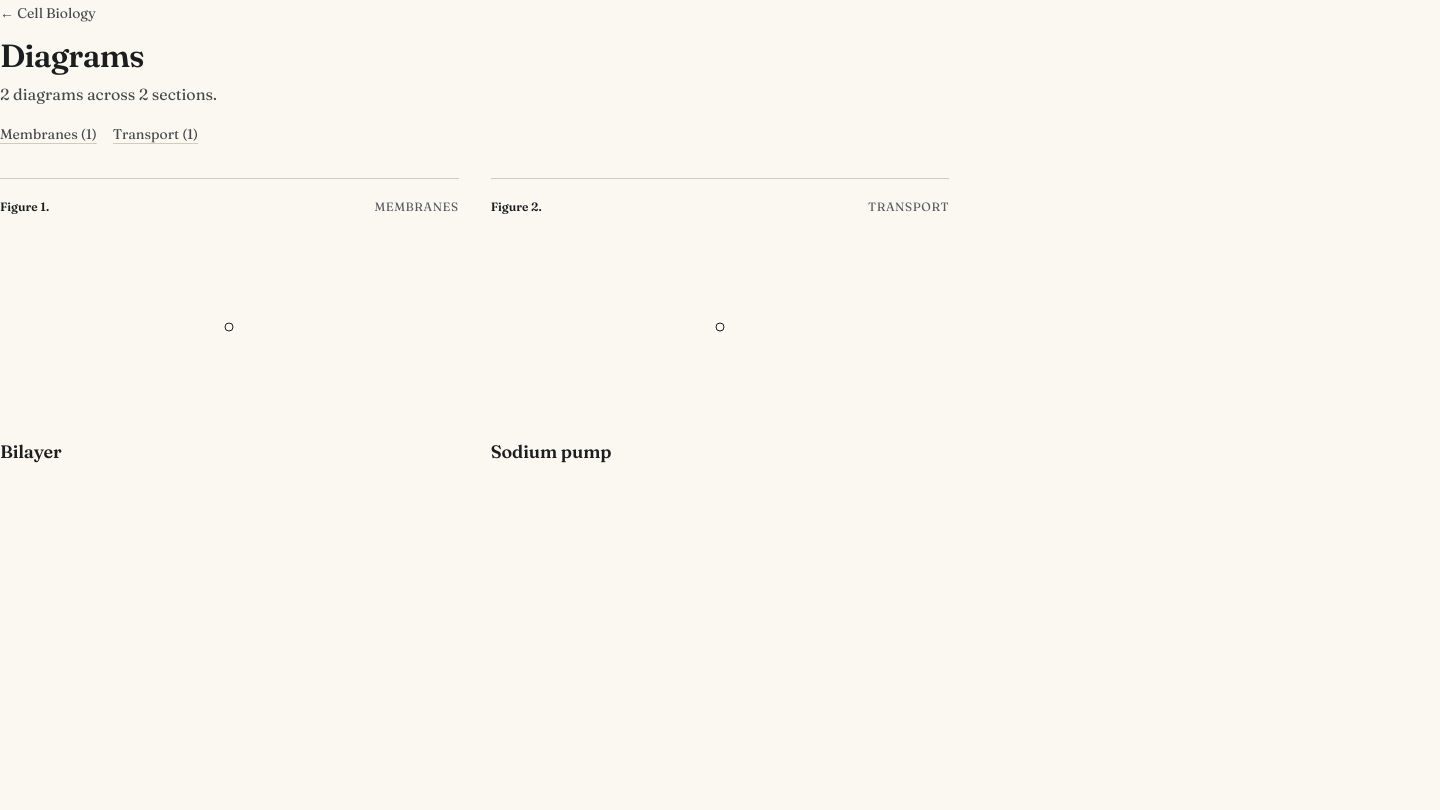
Test case: DiagramsRoute on a computer › lays the plates out together and opens one large with its note
This screenshot has width=1440, height=810.
Expected: the number of pictures is 2, x1=224 y1=322 x2=234 y2=332; x1=715 y1=322 x2=725 y2=332
Click the button "Bilayer": (31, 452) x1=0 y1=439 x2=62 y2=464
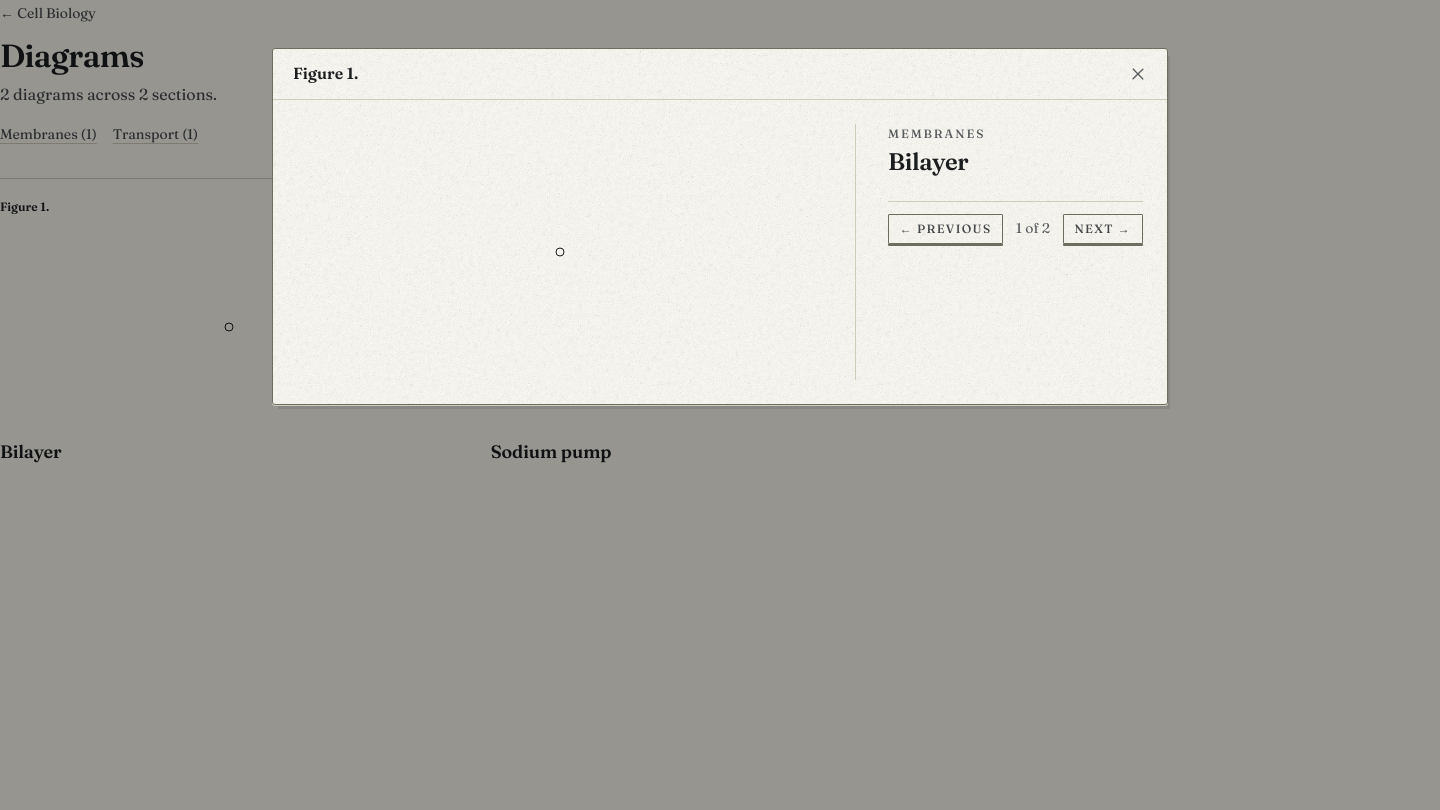
Now the dialog is shown
Now the text "1 of 2" is shown, box x1=1016 y1=218 x2=1050 y2=240
